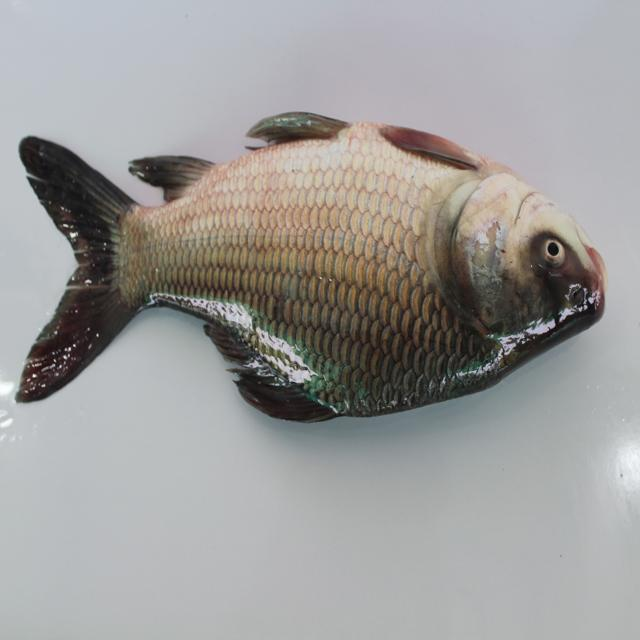Catla: (16, 110, 612, 424)
